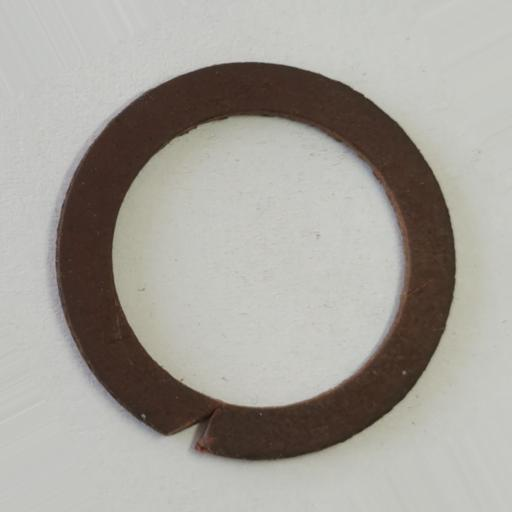defect: (164, 402, 222, 450), (407, 276, 437, 299)
